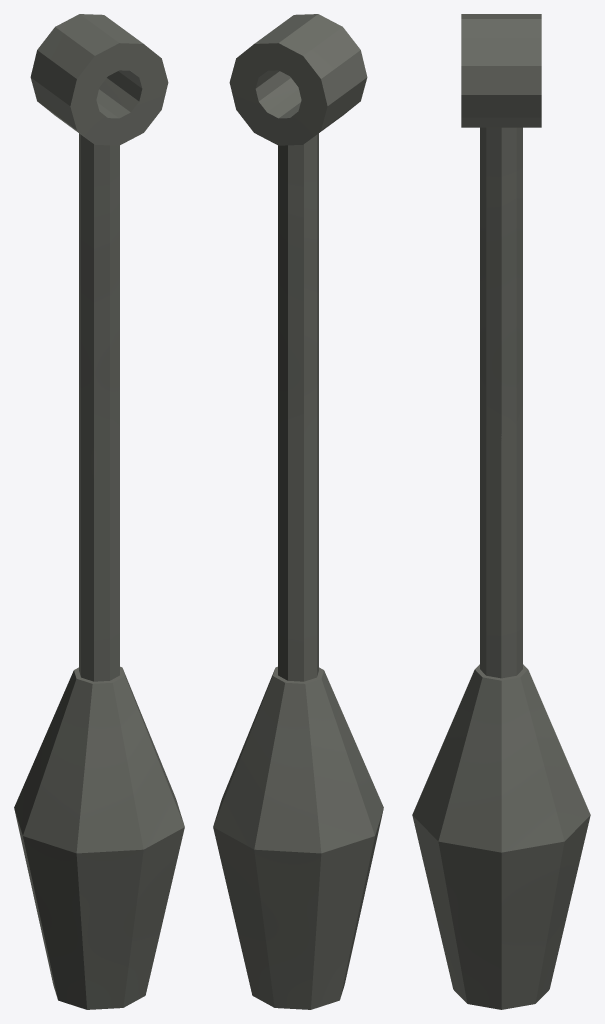
File: WarrensC_WVC021_BellClapper_Mars_SM.fbx
The picture shows the model from 3 angles, left to right: view 1: azimuth 30°, elevation 25°; view 2: azimuth 150°, elevation 25°; view 3: azimuth 270°, elevation 25°; orthographic projection.
Parts seen in each view (by area): view 1: WarrensC_WVC021_BellClapper_Mars_SM.001; view 2: WarrensC_WVC021_BellClapper_Mars_SM.001; view 3: WarrensC_WVC021_BellClapper_Mars_SM.001.
Part boxes in pixels (left/top/right/bottom): WarrensC_WVC021_BellClapper_Mars_SM.001: left=14, top=14, right=184, bottom=1009; WarrensC_WVC021_BellClapper_Mars_SM.001: left=213, top=14, right=383, bottom=1009; WarrensC_WVC021_BellClapper_Mars_SM.001: left=412, top=14, right=590, bottom=1009.
Bounding box in the file's own units: 30 × 30 × 180.
